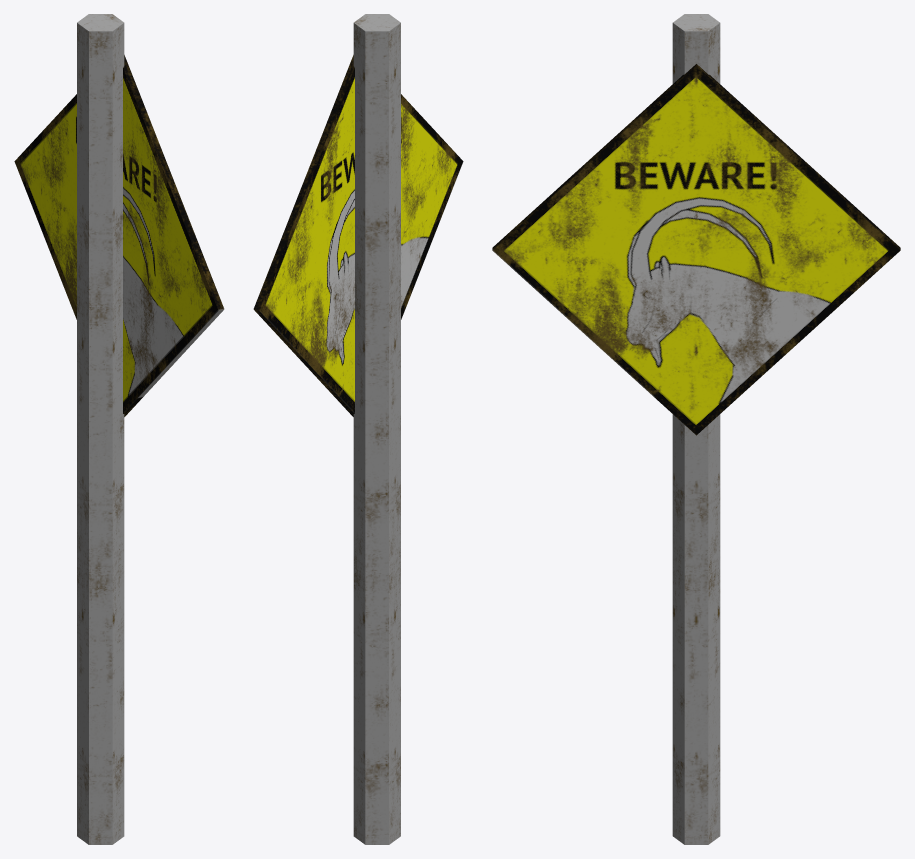
File: sign_02.fbx
The picture shows the model from 3 angles, left to right: view 1: azimuth 30°, elevation 25°; view 2: azimuth 150°, elevation 25°; view 3: azimuth 270°, elevation 25°; orthographic projection.
Visible parts, largest first — view 1: bewareSign_02; view 2: bewareSign_02; view 3: bewareSign_02.
Part boxes in pixels (bbox=[...]): bewareSign_02: bbox=[14, 14, 224, 844]; bewareSign_02: bbox=[253, 14, 463, 844]; bewareSign_02: bbox=[492, 14, 900, 844].
Bounding box in the file's own units: 6.6 × 130 × 58.93.
Materials: 1 (1 with a texture image).
